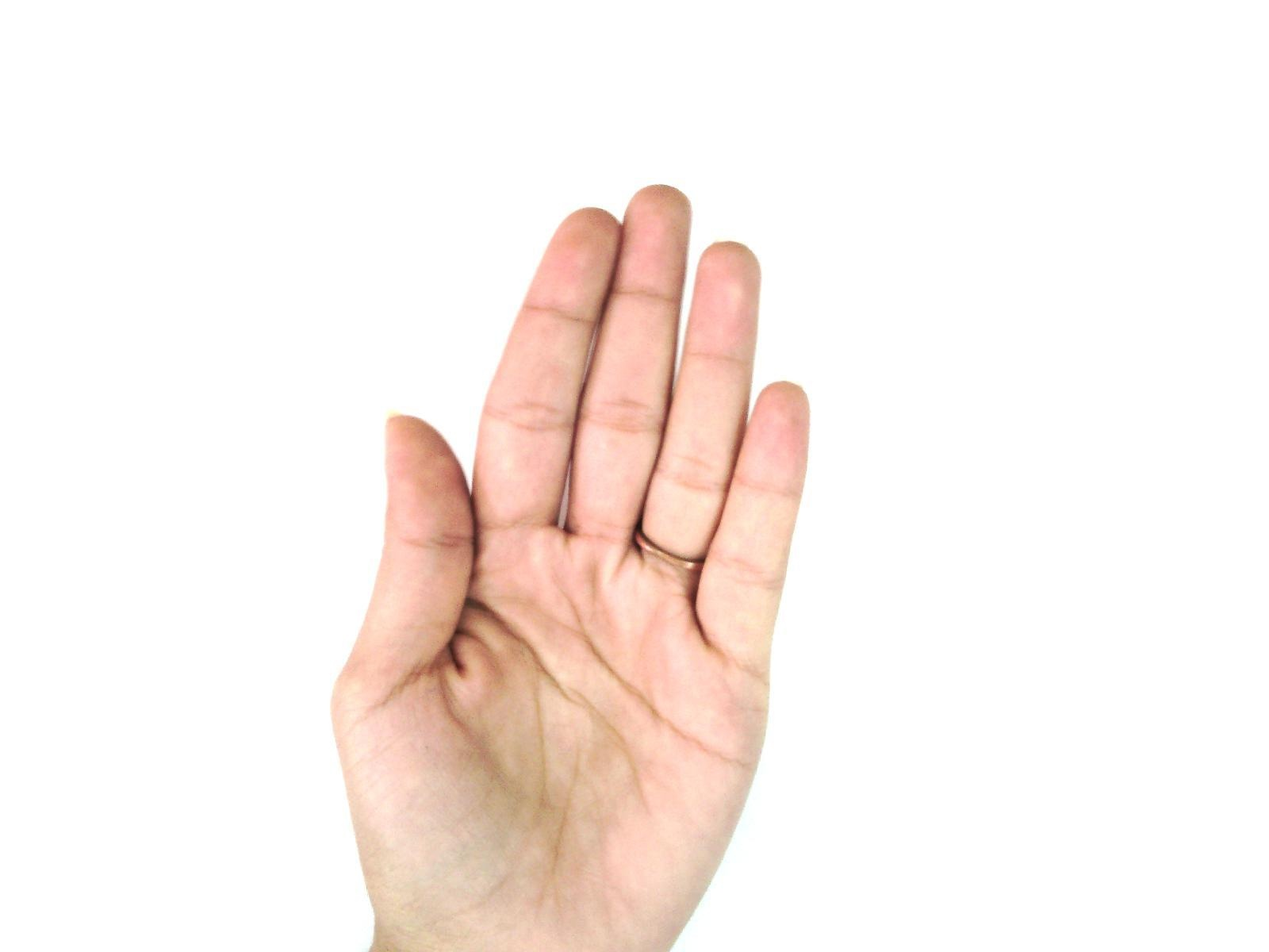open_palm: (328, 183, 814, 951)
